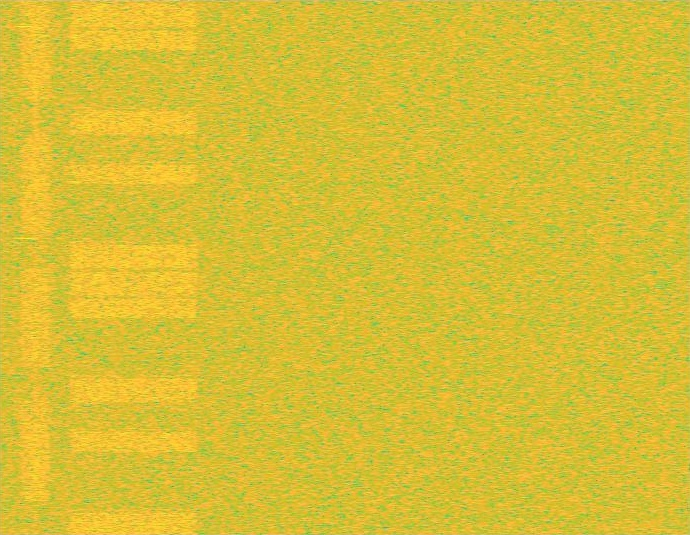5G: (19, 0, 53, 534)
DSSS: (33, 0, 38, 534)
LTE: (65, 0, 203, 534)
Radar: (19, 0, 33, 534)
